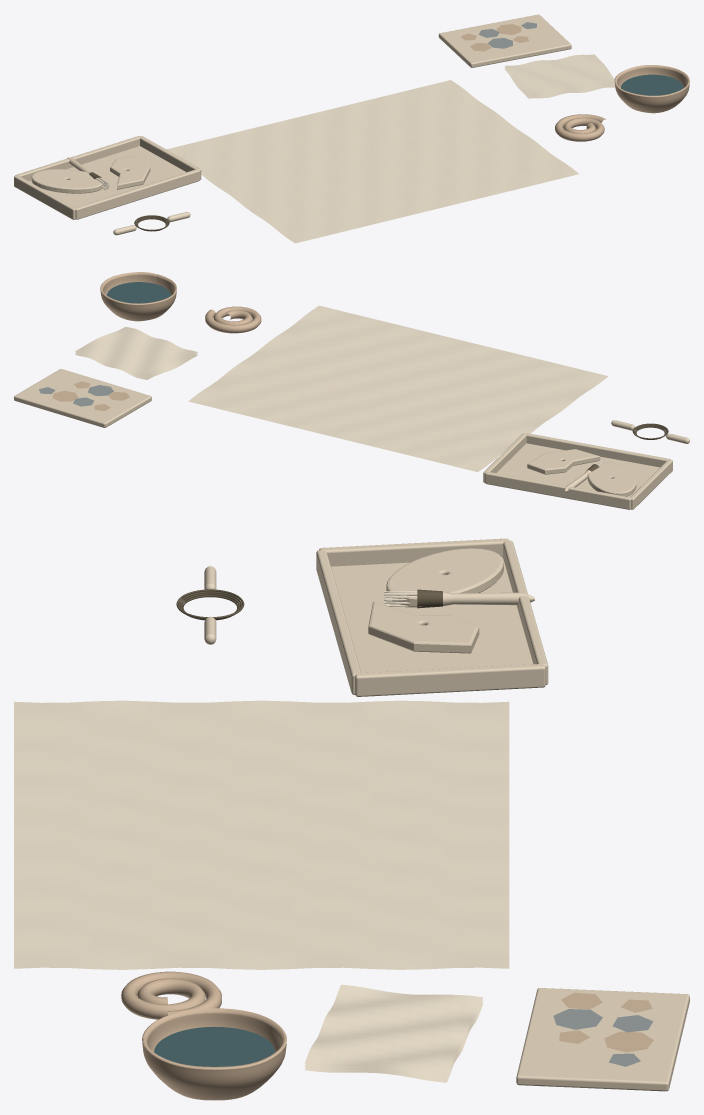
Rendered from craft-tools-v2.glb.
3 renders of one model, top to bottom at view 1: azimuth 30°, elevation 25°; view 2: azimuth 150°, elevation 25°; view 3: azimuth 270°, elevation 25°, orthographic. The views are drawn at different scales.
Parts seen in each view (by area): view 1: Woven mat with soft edge, Archival tray, Soft folded cloth, Tray raised side (×2), Tray base, Hand thrown body with inner wall, Tray raised end (×2), Oval shaping rib, Continuous soft clay coil, Water surface, Kidney shaping rib; view 2: Woven mat with soft edge, Archival tray, Tray raised side (×2), Soft folded cloth, Tray base, Hand thrown body with inner wall, Oval shaping rib, Tray raised end (×2), Continuous soft clay coil, Kidney shaping rib, Water surface; view 3: Woven mat with soft edge, Archival tray, Soft folded cloth, Tray base, Tray raised end (×2), Hand thrown body with inner wall, Oval shaping rib, Tray raised side (×2), Kidney shaping rib, Water surface, Continuous soft clay coil, Turned wooden handle.
Part boxes in pixels (x1,y1,x2,y2): Woven mat with soft edge: (167, 80, 579, 243); Archival tray: (438, 14, 571, 67); Soft folded cloth: (505, 54, 614, 95); Tray raised side (×2): (15, 136, 200, 219); Tray base: (29, 146, 185, 207); Hand thrown body with inner wall: (614, 65, 689, 113); Tray raised end (×2): (14, 136, 201, 219); Oval shaping rib: (31, 169, 103, 193); Continuous soft clay coil: (555, 114, 605, 141); Water surface: (621, 74, 683, 95); Kidney shaping rib: (110, 155, 150, 189); Woven mat with soft edge: (188, 305, 608, 471); Archival tray: (14, 369, 151, 427); Tray raised side (×2): (485, 433, 670, 509); Soft folded cloth: (75, 326, 197, 376); Tray base: (496, 443, 659, 497); Hand thrown body with inner wall: (100, 272, 176, 321); Oval shaping rib: (587, 462, 636, 496); Tray raised end (×2): (483, 433, 672, 509); Continuous soft clay coil: (205, 306, 261, 333); Kidney shaping rib: (527, 449, 600, 474); Water surface: (107, 282, 170, 303); Woven mat with soft edge: (14, 700, 509, 969); Archival tray: (516, 988, 689, 1091); Soft folded cloth: (304, 984, 482, 1076); Tray base: (331, 558, 533, 672); Tray raised end (×2): (319, 538, 545, 696); Hand thrown body with inner wall: (142, 1008, 286, 1100); Oval shaping rib: (386, 548, 503, 606); Tray raised side (×2): (316, 540, 548, 694); Kidney shaping rib: (368, 602, 479, 653); Water surface: (154, 1026, 275, 1066); Continuous soft clay coil: (121, 971, 221, 1019); Turned wooden handle: (443, 591, 534, 606).
Size of the model in its own units: 3.1 by 0.1307 by 1.58.
